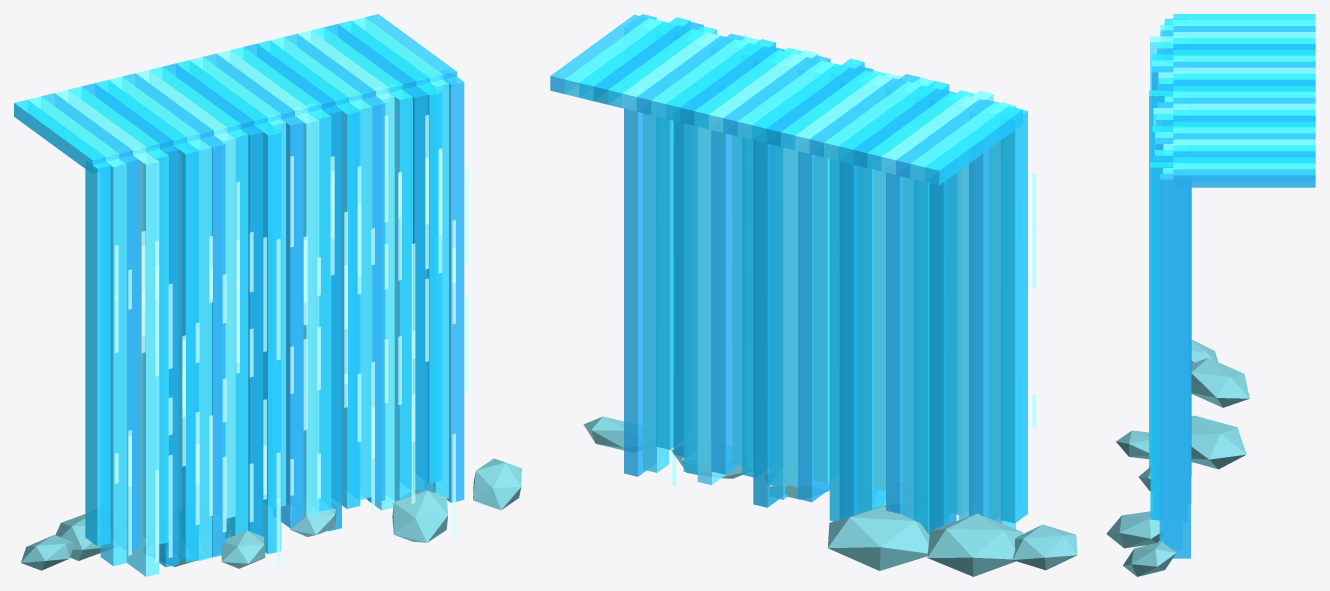
The model's file is wide-waterfall-water.glb.
3 renders of one model, left to right at view 1: azimuth 30°, elevation 25°; view 2: azimuth 150°, elevation 25°; view 3: azimuth 270°, elevation 25°, orthographic. The views are drawn at different scales.
Parts seen in each view (by area): view 1: Wide_Waterfall; view 2: Wide_Waterfall; view 3: Wide_Waterfall.
Boxes of the visible parts, x1,y1,x2,y2 form: Wide_Waterfall: (14, 14, 521, 576); Wide_Waterfall: (550, 14, 1077, 576); Wide_Waterfall: (1106, 14, 1315, 576).
Size of the model in its own units: 2.55 by 2.27 by 1.06.
